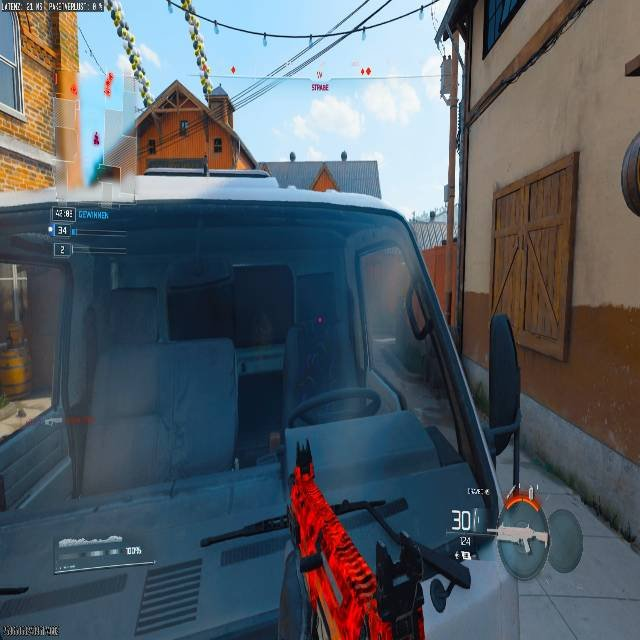player: (374, 539, 471, 640)
